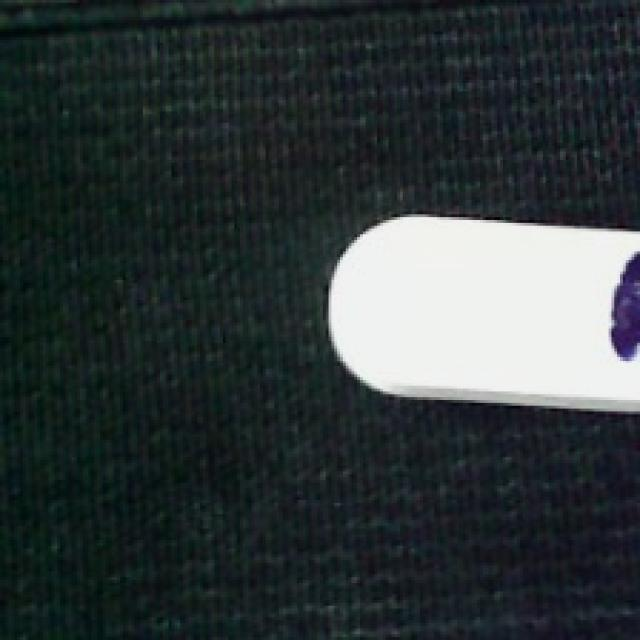defected: (320, 209, 640, 414)
